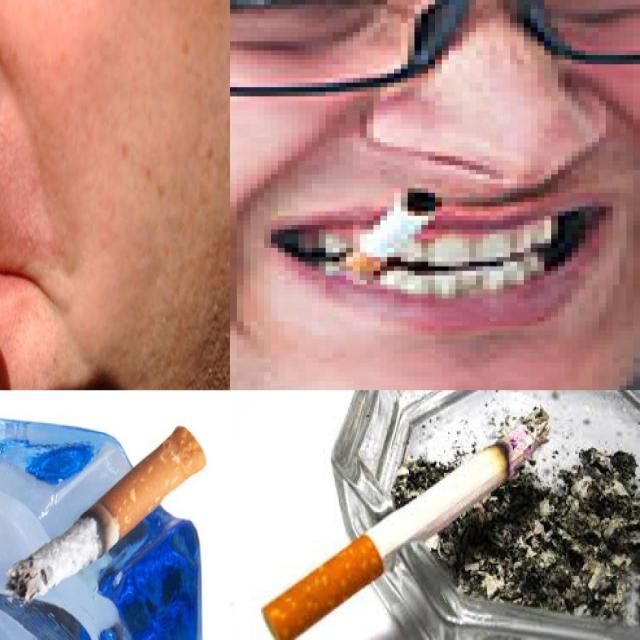smoking: (260, 404, 552, 640), (5, 424, 208, 603), (319, 179, 449, 266)
